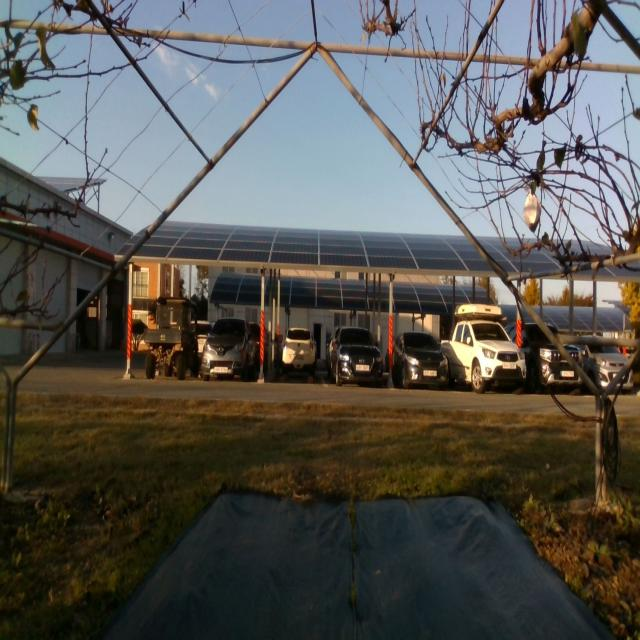pearbags: (523, 193, 541, 230)
